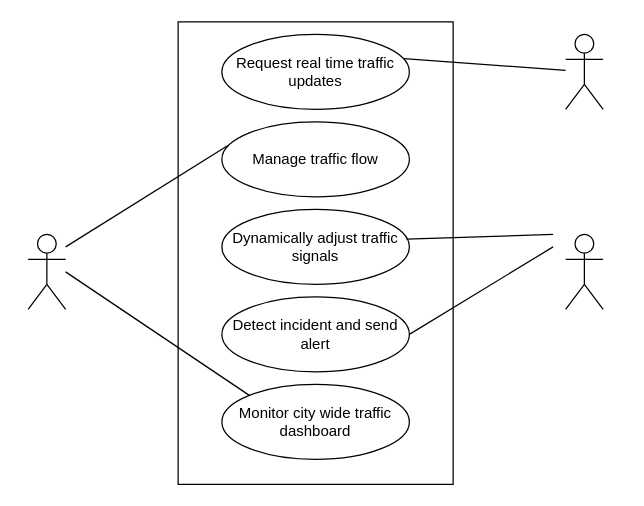
This 644x506 diagram has some shape labels left out. Here are the shapes that lost their labels. From the top down, the box of each, then its label:
(564, 33, 603, 109): Driver
(27, 233, 66, 309): City Planner
(564, 233, 603, 309): Automated System
